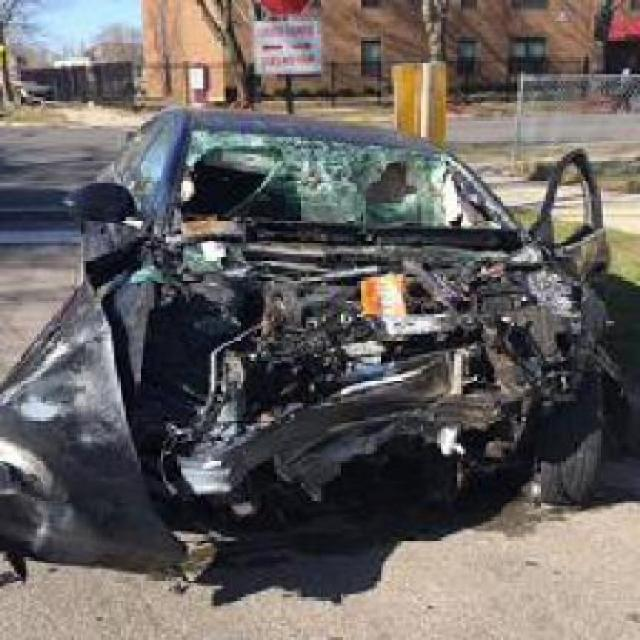damaged-windscreen: (178, 128, 504, 242)
